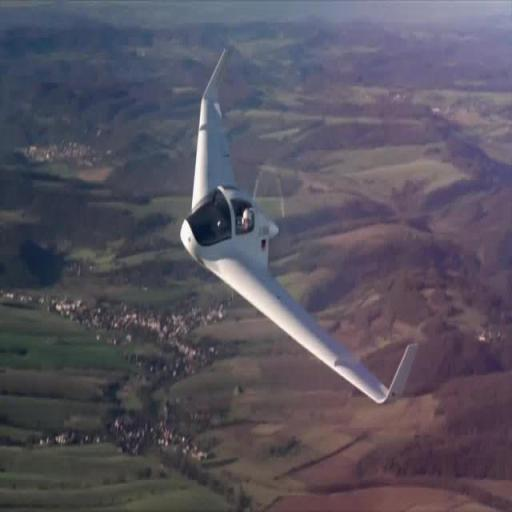uav: (176, 41, 419, 426)
